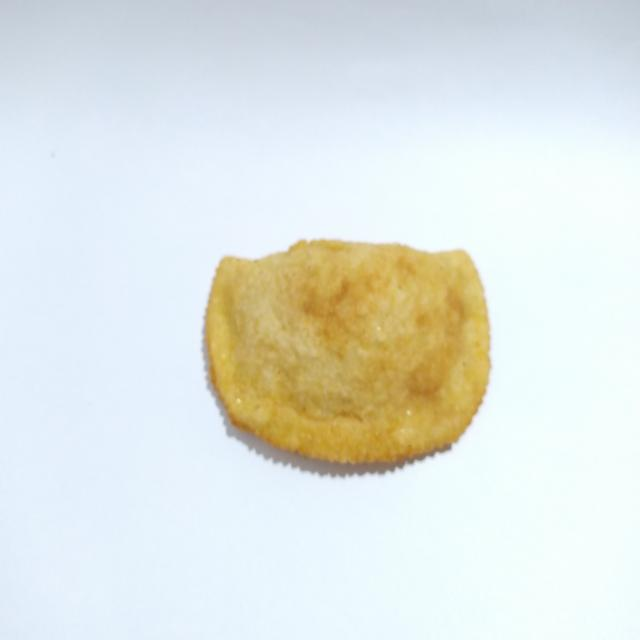Pastel_Mandio: (190, 220, 501, 480)
